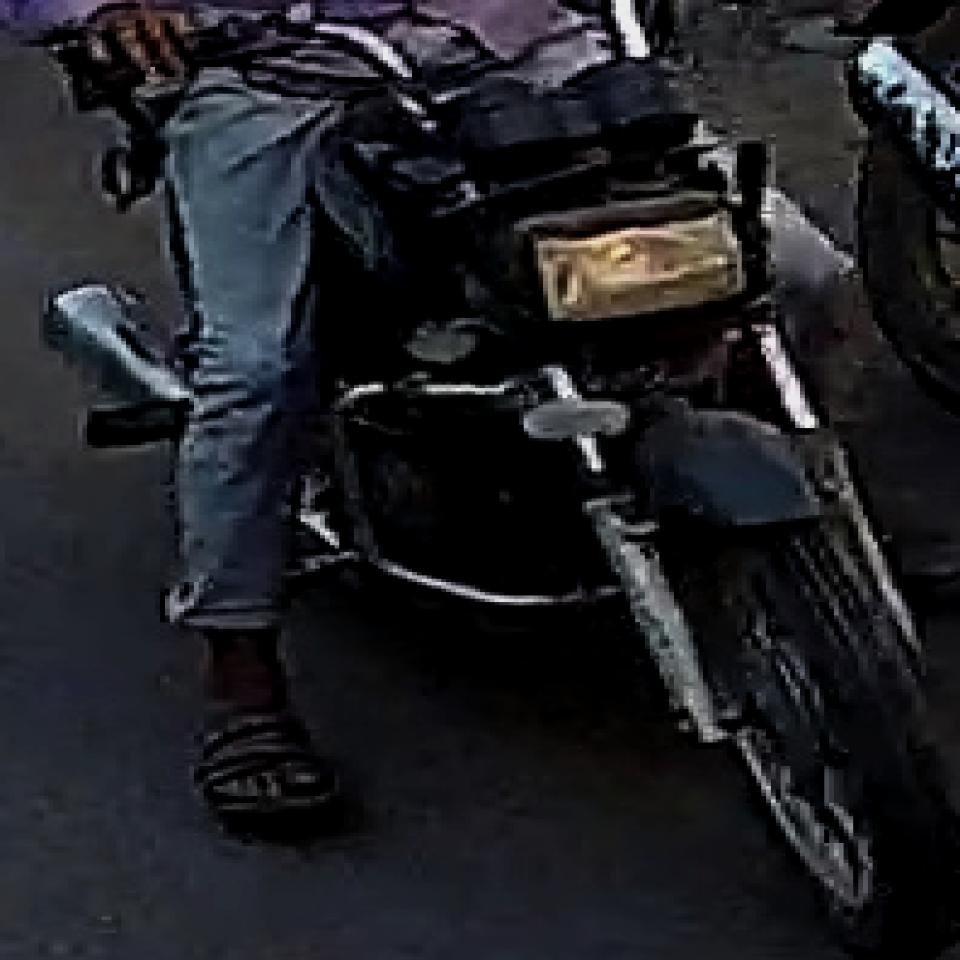head_light: (536, 216, 740, 322)
